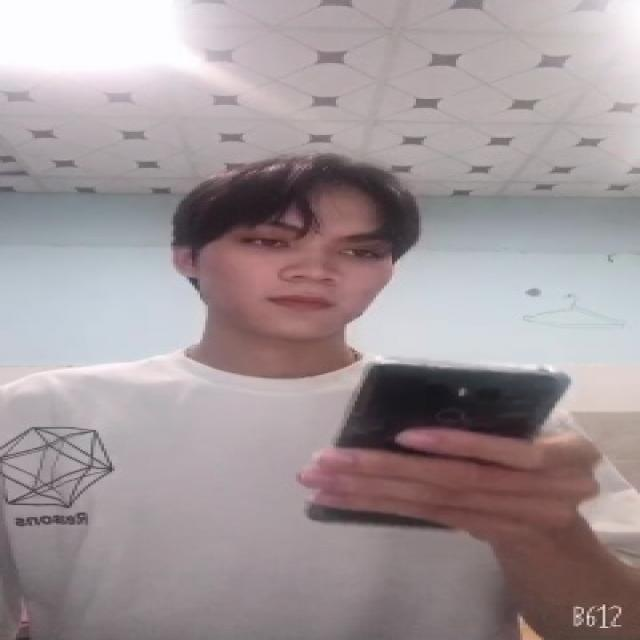Phone: (303, 357, 571, 534)
